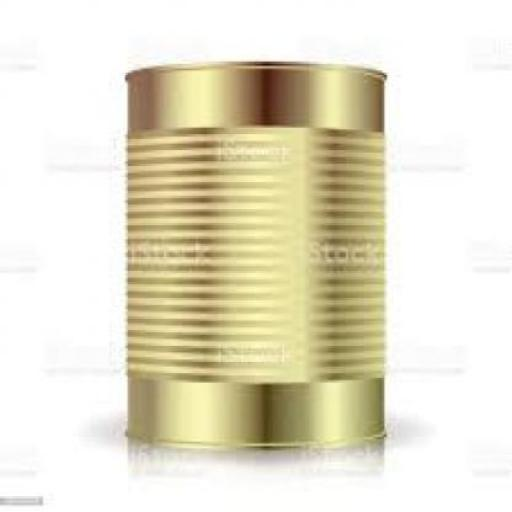metal: (122, 63, 384, 444)
